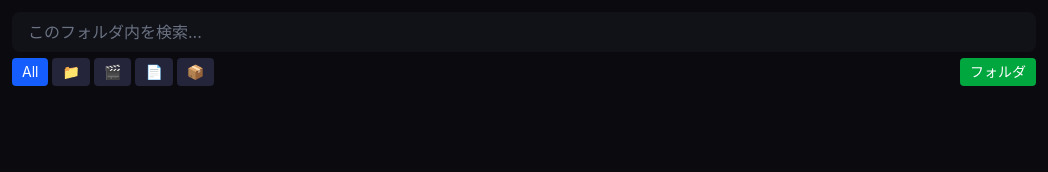
Scenario: SearchBar › スコープトグル › トグルクリックで全体検索に切り替わる
Click the button with test id "scope-toggle". click: (998, 72)
box: [960,58,1036,86]
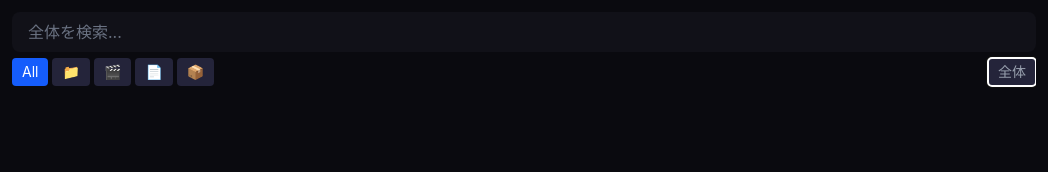
expect the field with placeholder "全体を検索..." is shown: met, box [12,12,1036,52]
